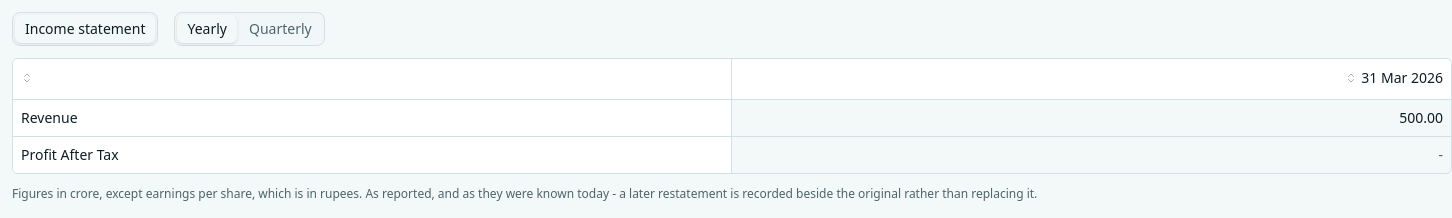
Financials › shows each reporting period apart
The image size is (1452, 218).
What coordinates should you click on to do the following:
click the button "Quarterly"
I would click on:
 (280, 29)
Its box is [239,15,322,43].
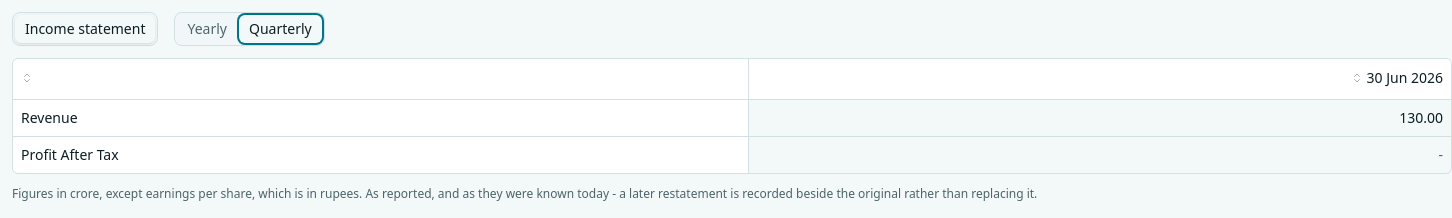
Now the text "130.00" is shown, box [1399,108,1443,127]
